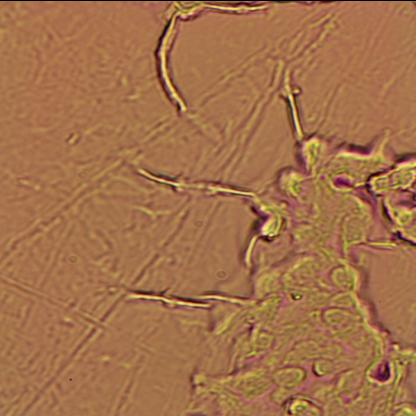Stage I: (192, 120, 416, 404)
